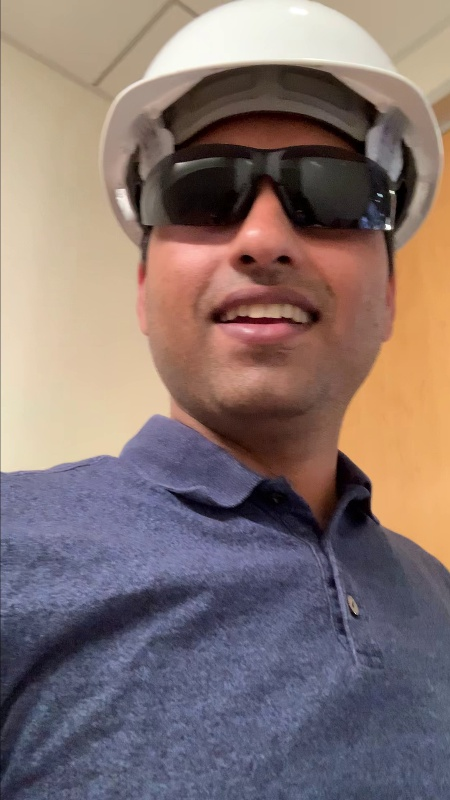glasses: (138, 152, 399, 231)
helmet: (139, 1, 421, 88)
